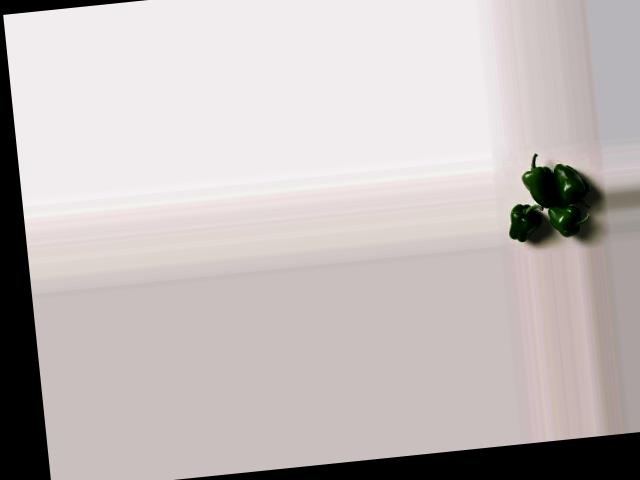bell_pepper: (545, 205, 590, 238)
